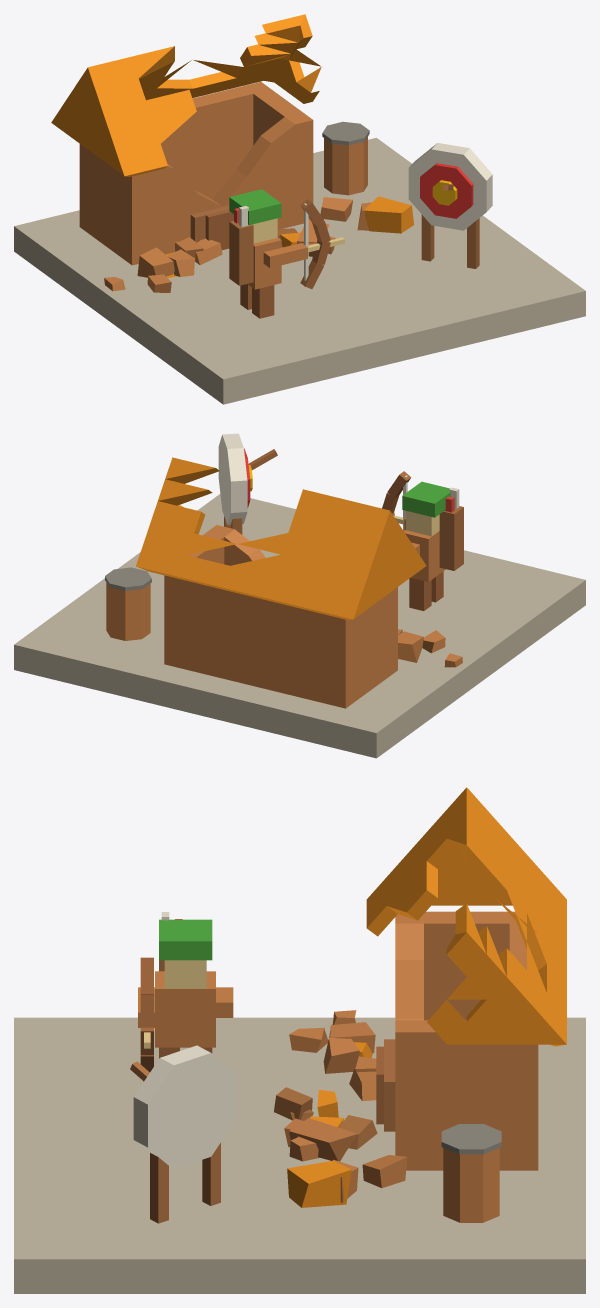
File: archery_range_t1_v1_dmg1.glb
3 views of the same model, one above another, from view 1: azimuth 30°, elevation 25°; view 2: azimuth 150°, elevation 25°; view 3: azimuth 270°, elevation 25° (orthographic). The views are drawn at different scales.
Visible parts, largest first — view 1: archery_range_t1_v1_dmg1; view 2: archery_range_t1_v1_dmg1; view 3: archery_range_t1_v1_dmg1.
Boxes of the visible parts, bbox=[...] form: archery_range_t1_v1_dmg1: bbox=[14, 14, 585, 404]; archery_range_t1_v1_dmg1: bbox=[14, 433, 585, 758]; archery_range_t1_v1_dmg1: bbox=[14, 787, 585, 1293].
Bounding box in the file's own units: 0.6 × 0.33 × 0.6.
Materials: 1 (1 with a texture image).
